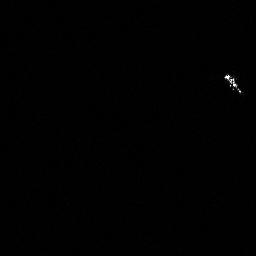ship: (223, 74, 241, 93)
